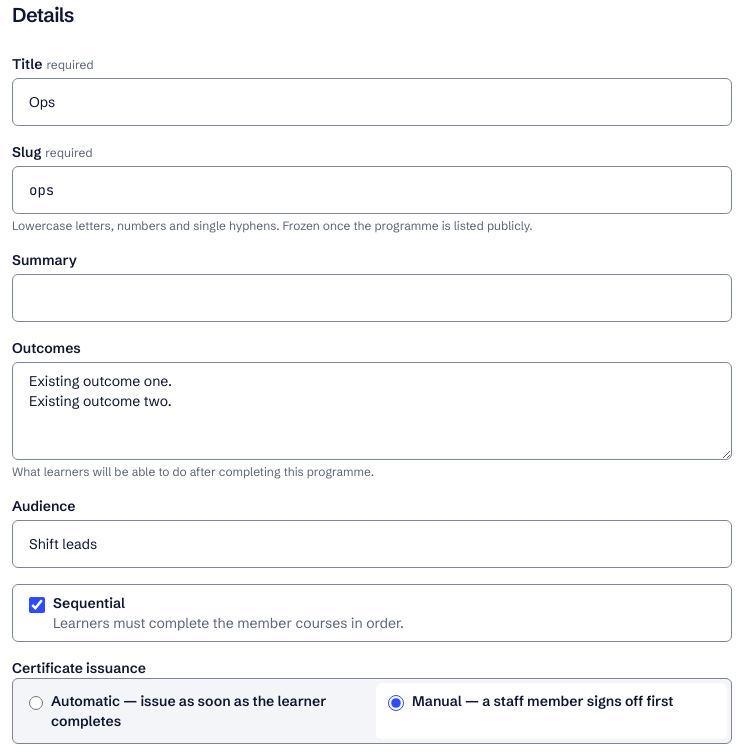
it: ProgrammeForm — outcomes persistence through edits and failed saves › retains attempted outcomes text after a failed save and shows no success message
Replace the text in the text box labelled "Outcomes" with "Rewritten outcome text." at (372, 411), box 12,362 -> 732,460
(page scrolled)
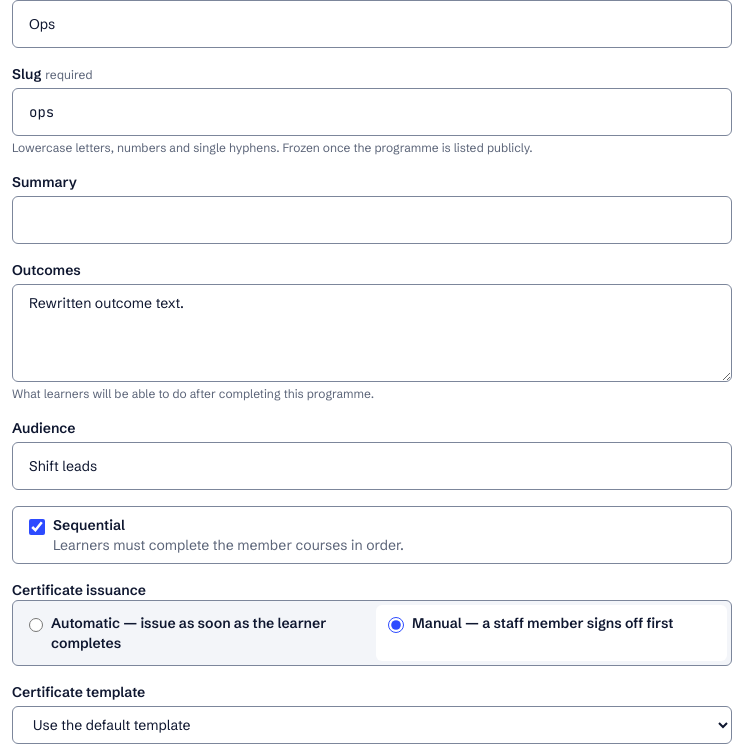
Submit the form
(page scrolled)
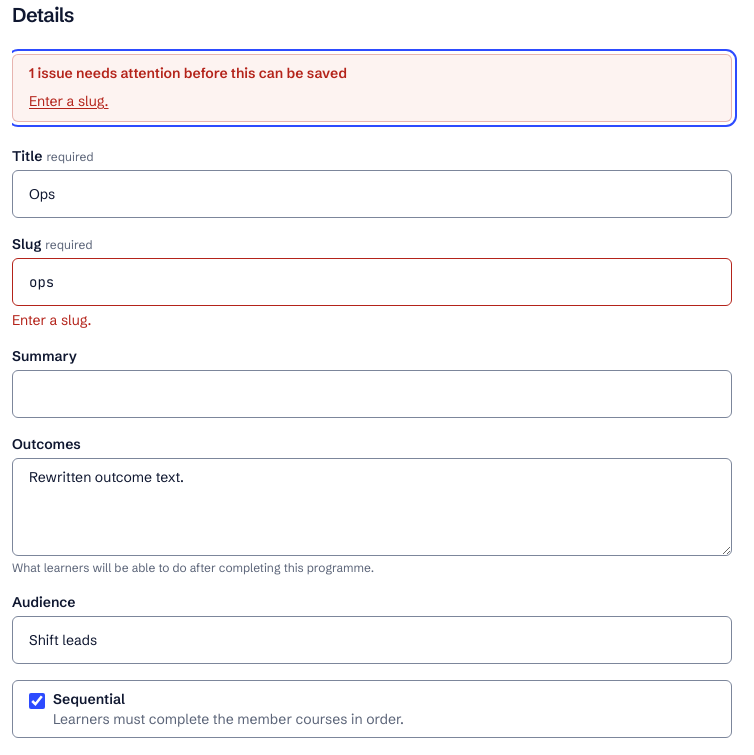
expect the link "Enter a slug." is shown: met, box 29,92 -> 108,110
